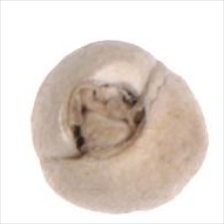L3: (58, 77, 156, 163)
L4: (30, 40, 210, 215)
